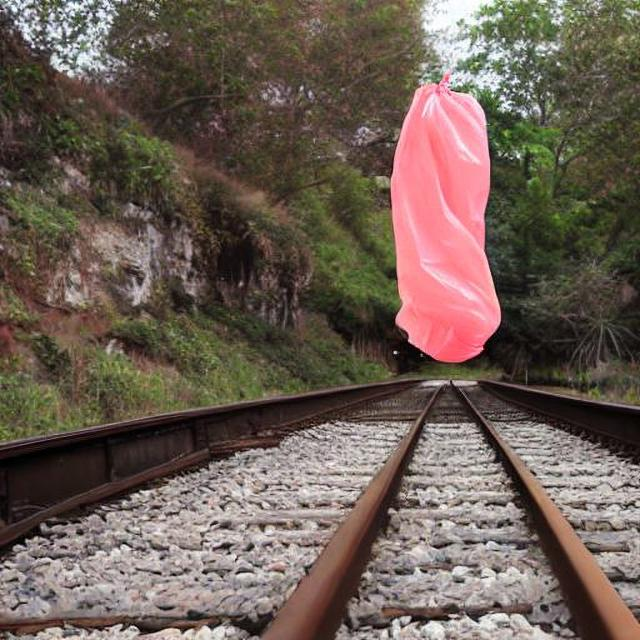plastic bag: (384, 71, 504, 356)
